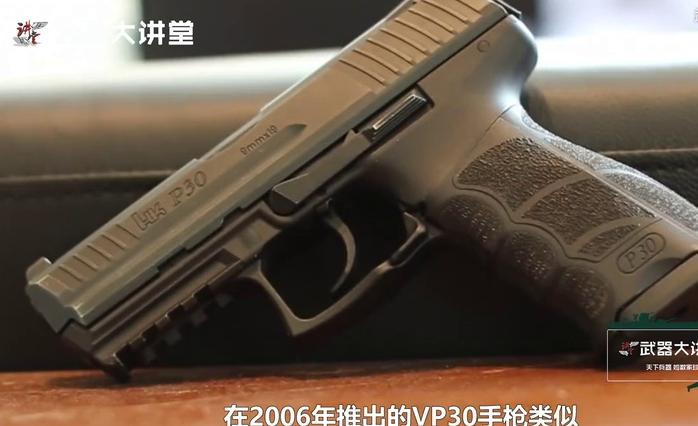gun: (1, 0, 698, 426)
